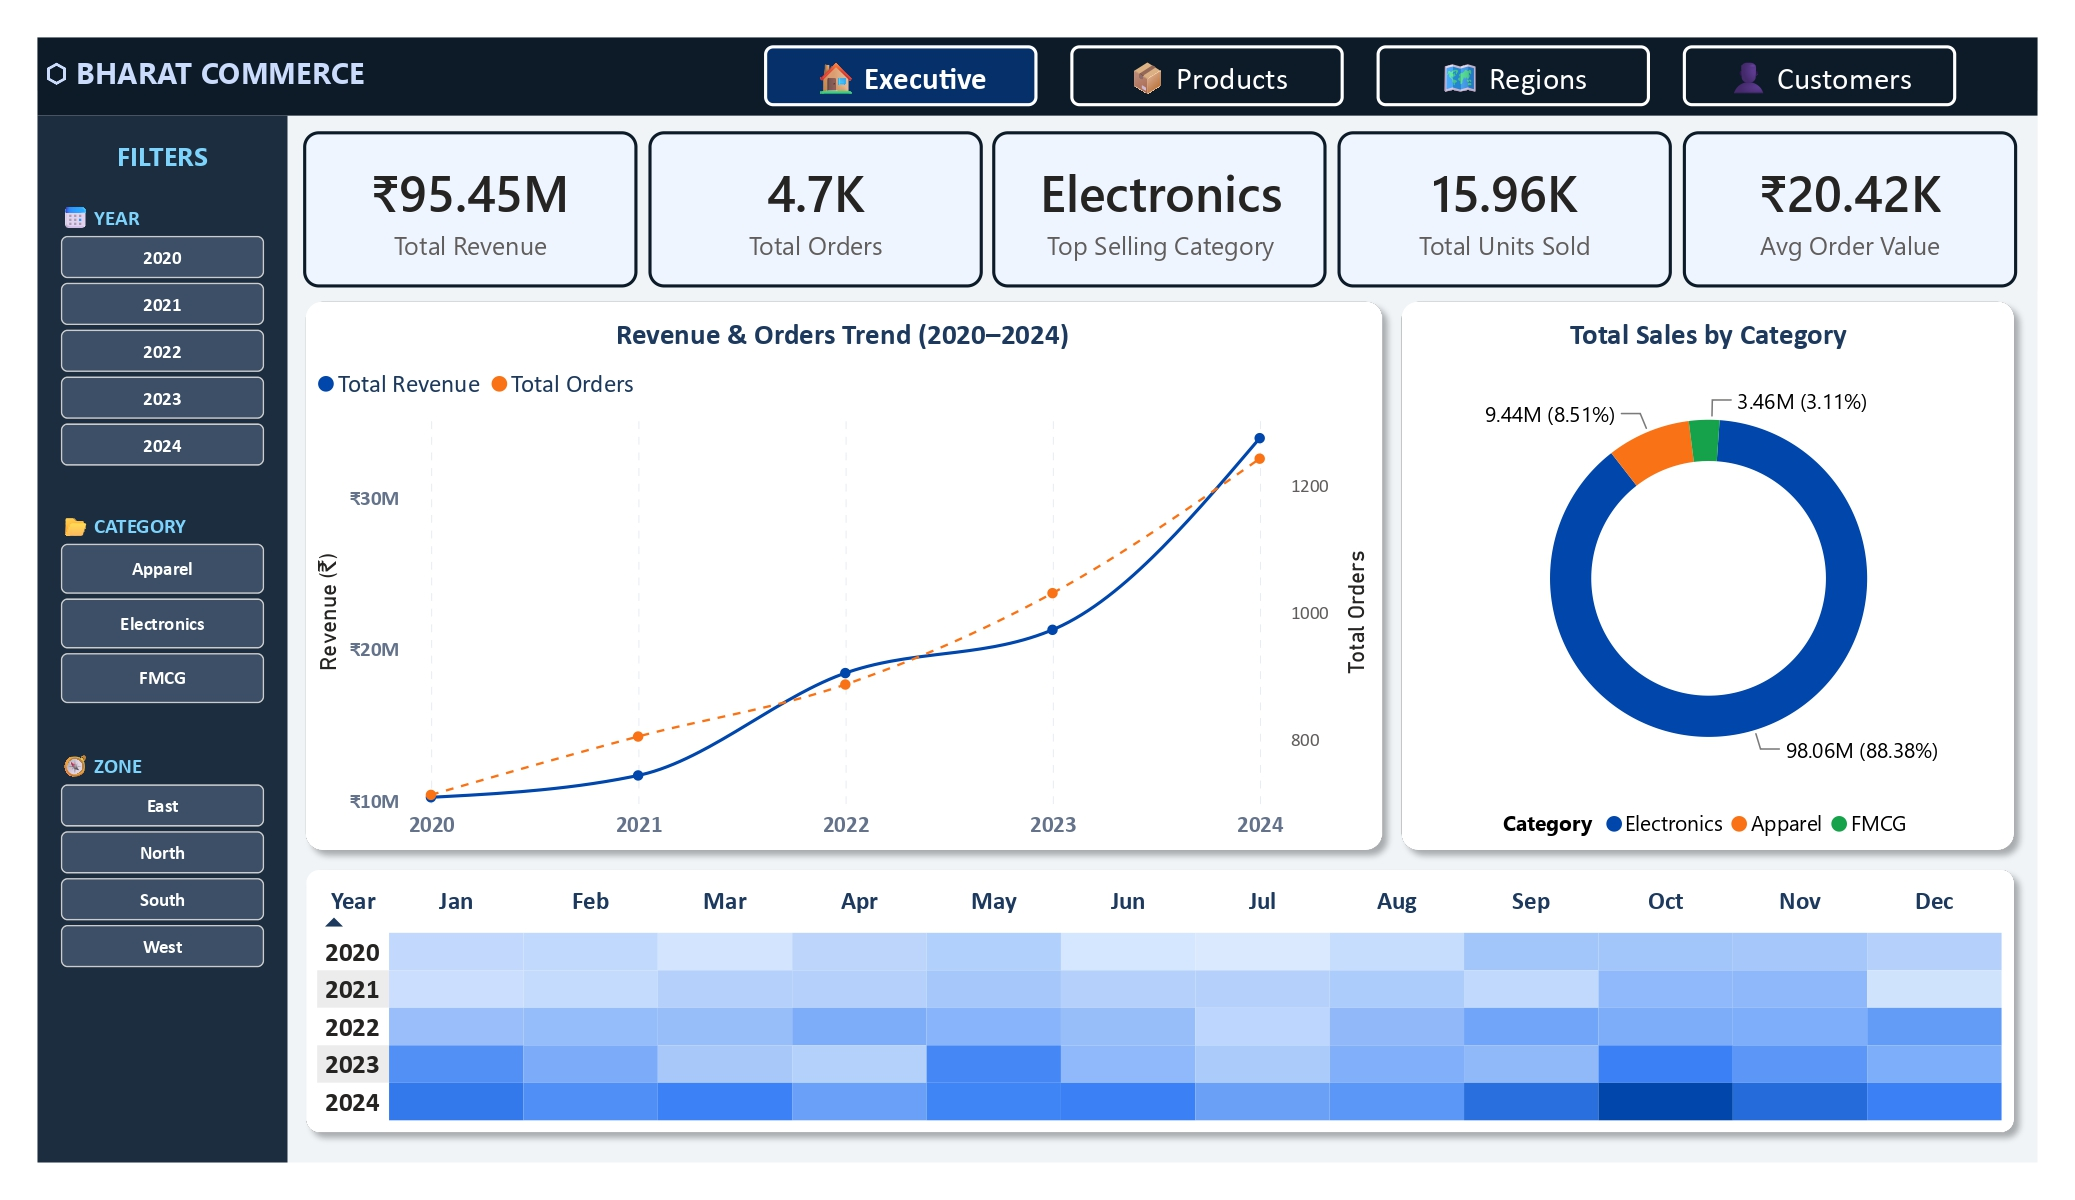

This screenshot's page, from the dashboard's own definition file:
{"tool":"powerbi","page":{"name":"🏠 Executive","canvas":[1280,720],"ordinal":0},"visuals":[{"type":"shape","box":[162.8,524.4,1111.6,186],"z":0},{"type":"shape","box":[864,160.5,410.5,368.6],"z":1000},{"type":"shape","box":[162.8,160.5,707,368.6],"z":2000},{"type":"shape","box":[0,0,1280.3,50],"z":3000},{"type":"textbox","box":[0,5.5,242.7,40.9],"z":4000},{"type":"shape","box":[0,50,160,670],"z":5000},{"type":"lineChart","title":"Revenue & Orders Trend (2020–2024)","fields":{"Category":["DimDate.Year"],"Y":["Measures Table.Total Revenue"],"Y2":["Measures Table.Total Orders"]},"box":[173.3,177.9,683.7,344.2],"z":6000},{"type":"donutChart","title":"Total Sales by Category","fields":{"Category":["Products.Category"],"Y":["Sum(SalesTransactions.TotalAmount)"]},"box":[876.7,177.9,384.9,344.2],"z":7000},{"type":"pivotTable","title":"Yearly Total Sales","fields":{"Rows":["DimDate.Year"],"Columns":["DimDate.MonthName"],"Values":["Sum(SalesTransactions.TotalAmount)"]},"box":[174.4,537.2,1096.5,174.4],"z":8000},{"type":"advancedSlicerVisual","title":"📅 YEAR","fields":{"Values":["DimDate.Year"]},"box":[10,105.8,140,173.7],"z":9000},{"type":"textbox","box":[10,60,140,33.2],"z":10000},{"type":"advancedSlicerVisual","title":"📂 CATEGORY","fields":{"Values":["Products.Category"]},"box":[10,303.1,140,130],"z":11000},{"type":"advancedSlicerVisual","title":"🧭 ZONE","fields":{"Values":["Regions.Zone"]},"box":[10,456.7,140,145.6],"z":12000},{"type":"actionButton","box":[1052.5,5,175,38.8],"z":13000},{"type":"actionButton","box":[856.7,5,175,38.8],"z":14000},{"type":"actionButton","box":[660.8,5,175,38.8],"z":15000},{"type":"actionButton","box":[465,5,175,38.8],"z":16000},{"type":"group","id":"g1","title":"Group 1","box":[170,60,214,100],"z":17000},{"type":"shape","box":[170,60,214,100],"z":17000,"group":"g1"},{"type":"shape","box":[390.5,60,214,100],"z":17000,"group":"g2"},{"type":"shape","box":[611.2,60,214,100],"z":17000,"group":"g5"},{"type":"shape","box":[831.8,60,214,100],"z":17000,"group":"g3"},{"type":"shape","box":[1052.5,60,214,100],"z":17000,"group":"g4"},{"type":"cardVisual","fields":{"Data":["Measures Table.Total Revenue"]},"box":[170,60,214,100],"z":18000,"group":"g1"},{"type":"group","id":"g2","title":"Group 1","box":[390.5,60,214,100],"z":18000},{"type":"cardVisual","fields":{"Data":["Measures Table.Total Orders"]},"box":[390.5,60,214,100],"z":18000,"group":"g2"},{"type":"cardVisual","fields":{"Data":["Measures Table.Top Selling Category"]},"box":[611.8,60,214,100],"z":18000,"group":"g5"},{"type":"cardVisual","fields":{"Data":["Measures Table.Total Units Sold"]},"box":[831.8,60,214,100],"z":18000,"group":"g3"},{"type":"cardVisual","fields":{"Data":["Measures Table.Avg Order Value"]},"box":[1052.5,60,214,100],"z":18000,"group":"g4"},{"type":"group","id":"g3","title":"Group 1","box":[831.8,60,214,100],"z":19000},{"type":"group","id":"g4","title":"Group 1","box":[1052.5,60,214,100],"z":20000},{"type":"group","id":"g5","title":"Group 2","box":[611.2,60,214.6,100],"z":21000}]}

Visuals, with their boxes on the page's 1280x720 design canvas (x1, y1, x2, y2). These are canvas units, not pixel positions in the 2075x1200 screenshot, which may show the page scaled, cropped or inside an application window:
shape: crop(163, 524, 1274, 710)
shape: crop(864, 160, 1274, 529)
shape: crop(163, 160, 870, 529)
shape: crop(0, 0, 1280, 50)
textbox: crop(0, 6, 243, 46)
shape: crop(0, 50, 160, 720)
"Revenue & Orders Trend (2020–2024)" lineChart: crop(173, 178, 857, 522)
"Total Sales by Category" donutChart: crop(877, 178, 1262, 522)
"Yearly Total Sales" pivotTable: crop(174, 537, 1271, 712)
"📅 YEAR" advancedSlicerVisual: crop(10, 106, 150, 280)
textbox: crop(10, 60, 150, 93)
"📂 CATEGORY" advancedSlicerVisual: crop(10, 303, 150, 433)
"🧭 ZONE" advancedSlicerVisual: crop(10, 457, 150, 602)
actionButton: crop(1052, 5, 1228, 44)
actionButton: crop(857, 5, 1032, 44)
actionButton: crop(661, 5, 836, 44)
actionButton: crop(465, 5, 640, 44)
"Group 1" group: crop(170, 60, 384, 160)
shape: crop(170, 60, 384, 160)
shape: crop(390, 60, 604, 160)
shape: crop(611, 60, 825, 160)
shape: crop(832, 60, 1046, 160)
shape: crop(1052, 60, 1266, 160)
cardVisual - Measures Table.Total Revenue: crop(170, 60, 384, 160)
"Group 1" group: crop(390, 60, 604, 160)
cardVisual - Measures Table.Total Orders: crop(390, 60, 604, 160)
cardVisual - Measures Table.Top Selling Category: crop(612, 60, 826, 160)
cardVisual - Measures Table.Total Units Sold: crop(832, 60, 1046, 160)
cardVisual - Measures Table.Avg Order Value: crop(1052, 60, 1266, 160)
"Group 1" group: crop(832, 60, 1046, 160)
"Group 1" group: crop(1052, 60, 1266, 160)
"Group 2" group: crop(611, 60, 826, 160)
